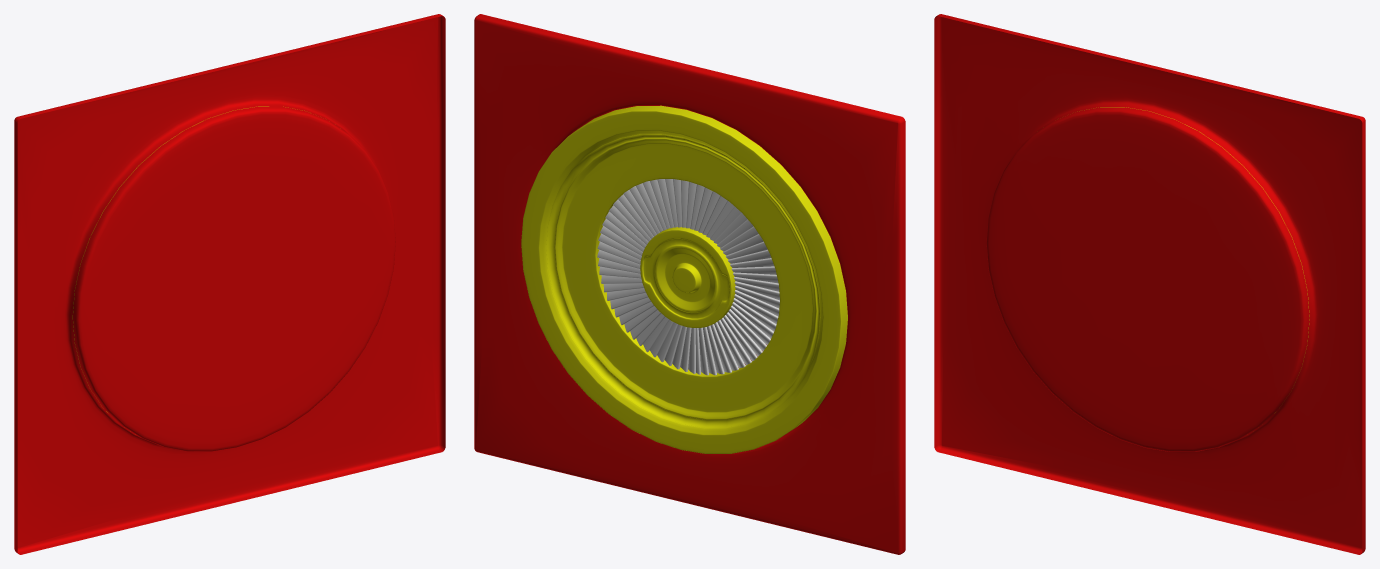
Rendered from Fan_Vent.fbx.
The picture shows the model from 3 angles, left to right: view 1: azimuth 30°, elevation 25°; view 2: azimuth 150°, elevation 25°; view 3: azimuth 330°, elevation 25°; orthographic projection.
Parts seen in each view (by area): view 1: Fan_Vent_Base; view 2: Fan_Vent_Base, Fan_Vent_Blades; view 3: Fan_Vent_Base.
Boxes of the visible parts, x1=… form: Fan_Vent_Base: x1=14, y1=14, x2=445, y2=554; Fan_Vent_Base: x1=474, y1=14, x2=905, y2=554; Fan_Vent_Blades: x1=597, y1=179, x2=779, y2=375; Fan_Vent_Base: x1=934, y1=14, x2=1365, y2=554.
Bounding box in the file's own units: 277 × 270 × 16.23.
